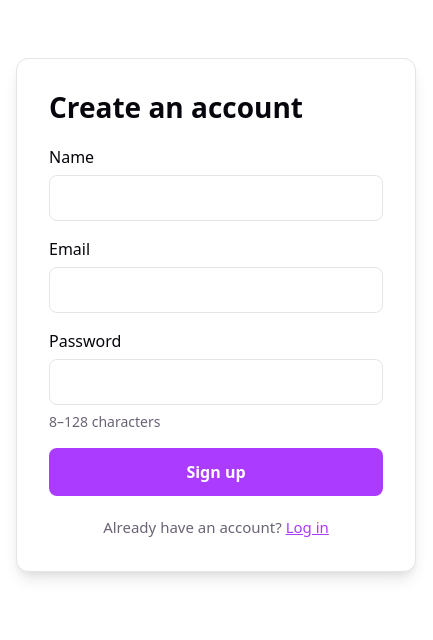
Test: SignupPage › shows a readable message in the alert region for NETWORK_ERROR
The width and height of the screenshot is (433, 640).
Check: the heading "Create an account" is shown, box left=49, top=88, right=303, bottom=126
Step 1. Type "Ada" into the field labelled "Name" → (216, 198), box left=49, top=175, right=383, bottom=221
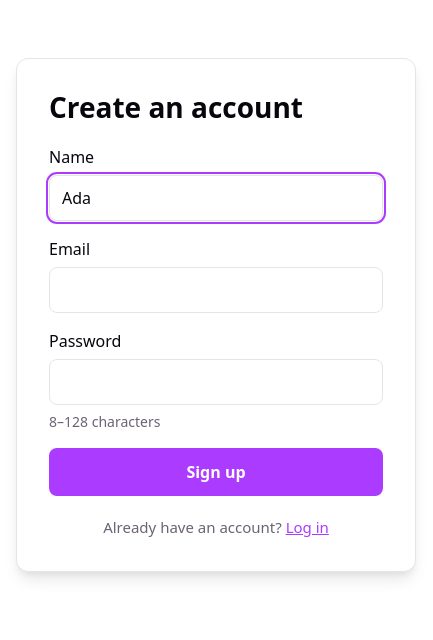
Step 2. Type "ada@example.com" into the field labelled "Email" → (216, 290), box left=49, top=267, right=383, bottom=313
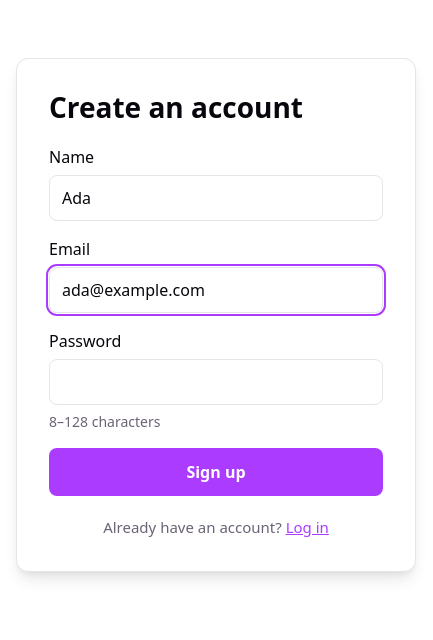
Step 3. Type "password1" into the password field labelled "Password" → (216, 382), box left=49, top=359, right=383, bottom=405
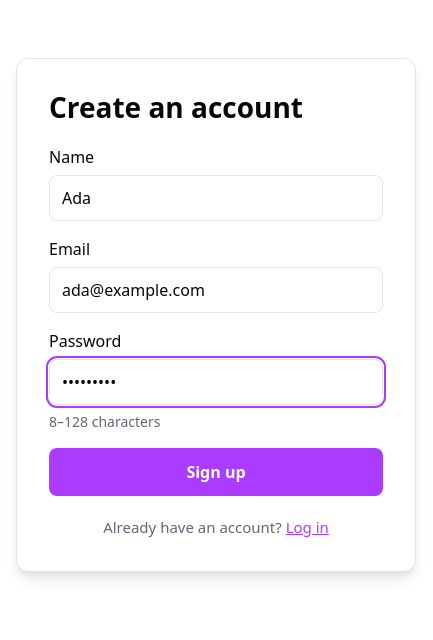
Step 4. Click the button "Sign up" → (216, 472), box left=49, top=448, right=383, bottom=496
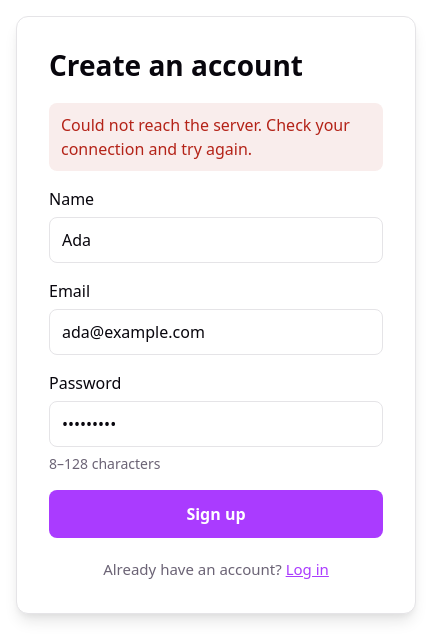
Check: the button "Sign up" is enabled, box left=49, top=490, right=383, bottom=538
Check: the message reads "Could not reach the server. Check your connection and try again.", box left=61, top=114, right=350, bottom=160
